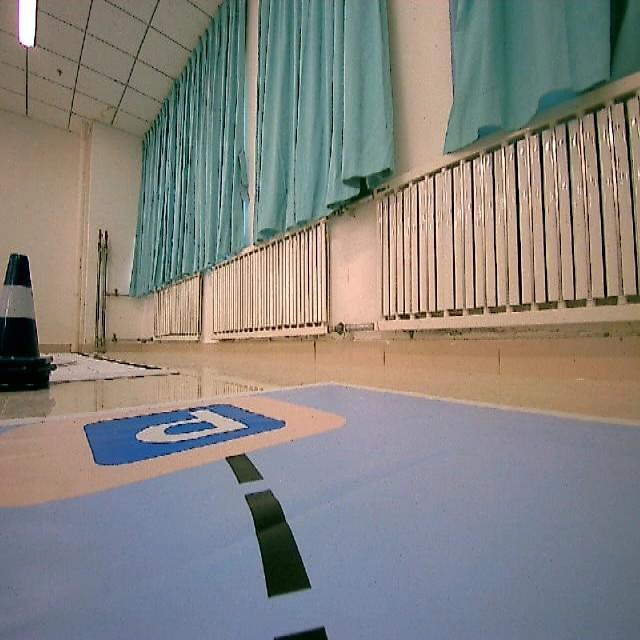obstacle: (0, 253, 63, 404)
